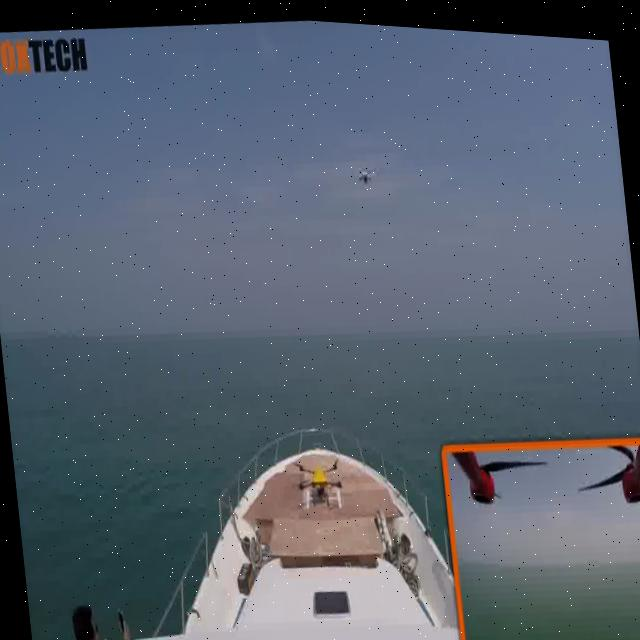drone: (288, 440, 348, 511), (352, 142, 378, 197)
